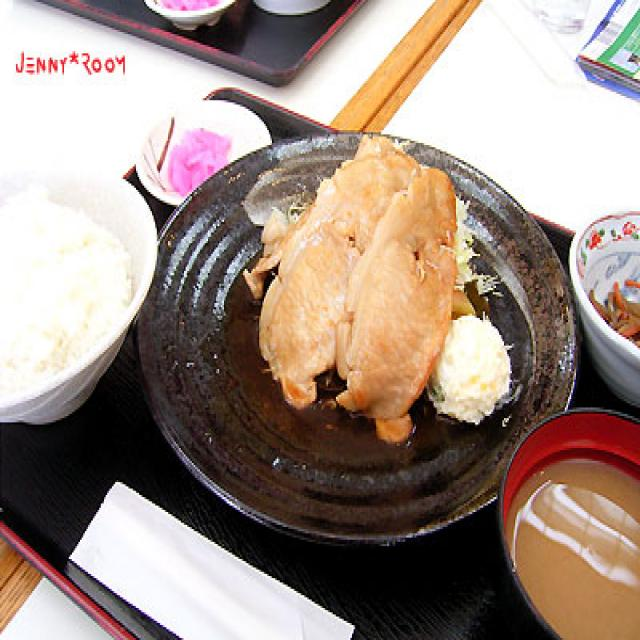猪肉菜式: (224, 111, 485, 442)
